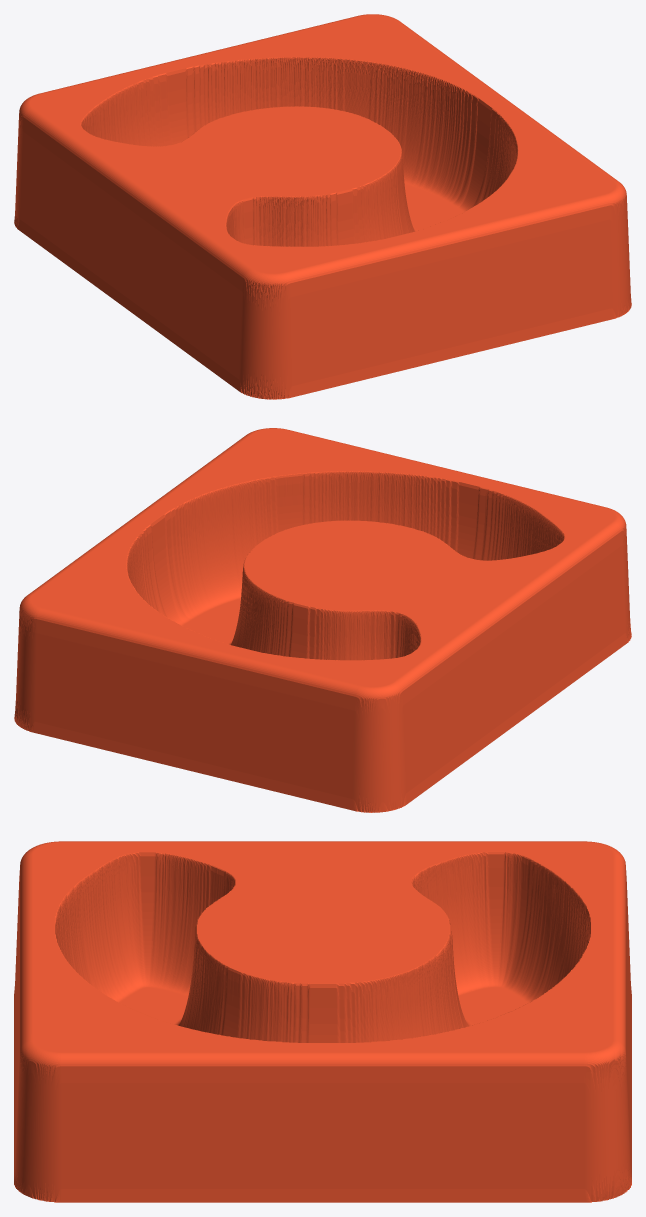
File: mold.glb
The picture shows the model from 3 angles, top to bottom: view 1: azimuth 30°, elevation 25°; view 2: azimuth 150°, elevation 25°; view 3: azimuth 270°, elevation 25°; orthographic projection. The views are drawn at different scales.
Parts seen in each view (by area): view 1: geometry_0; view 2: geometry_0; view 3: geometry_0.
Boxes of the visible parts, <box> form: geometry_0: <box>14,14,631,399</box>; geometry_0: <box>14,428,631,812</box>; geometry_0: <box>14,841,631,1202</box>.
Size of the model in its own units: 0.1018 by 0.0299 by 0.1178.
